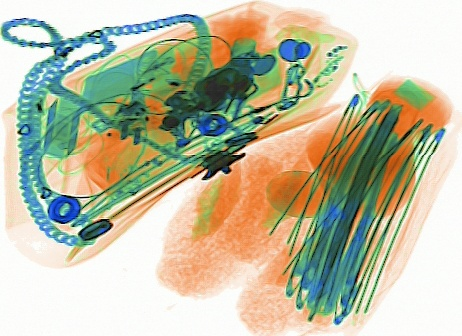lighter: (115, 54, 180, 107)
